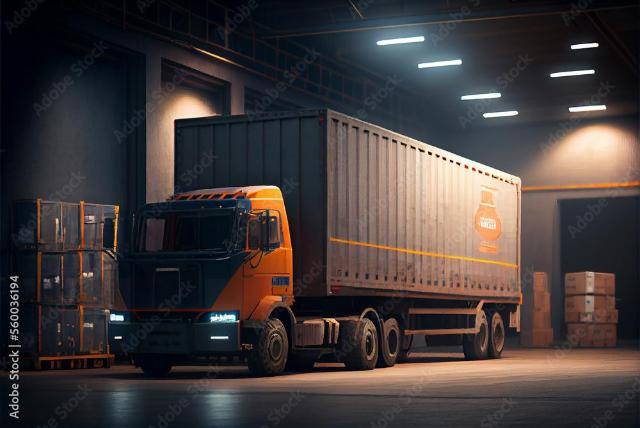truck: (94, 95, 538, 378)
